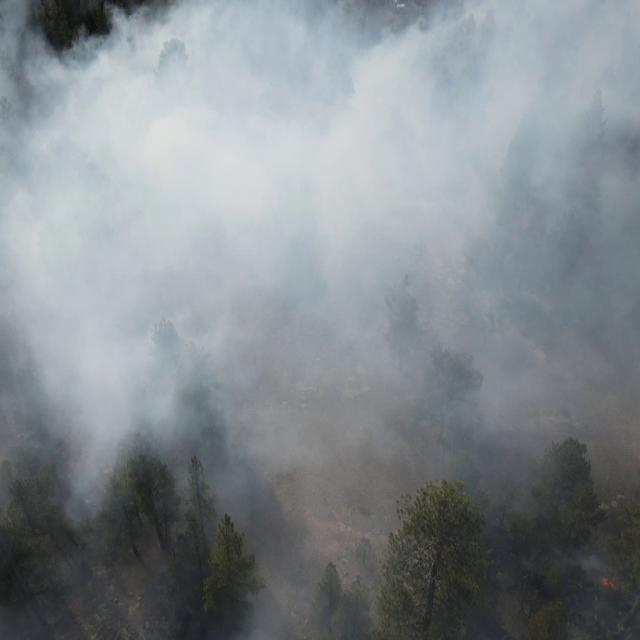fire: (601, 572, 619, 590)
smoke: (0, 0, 640, 640)
